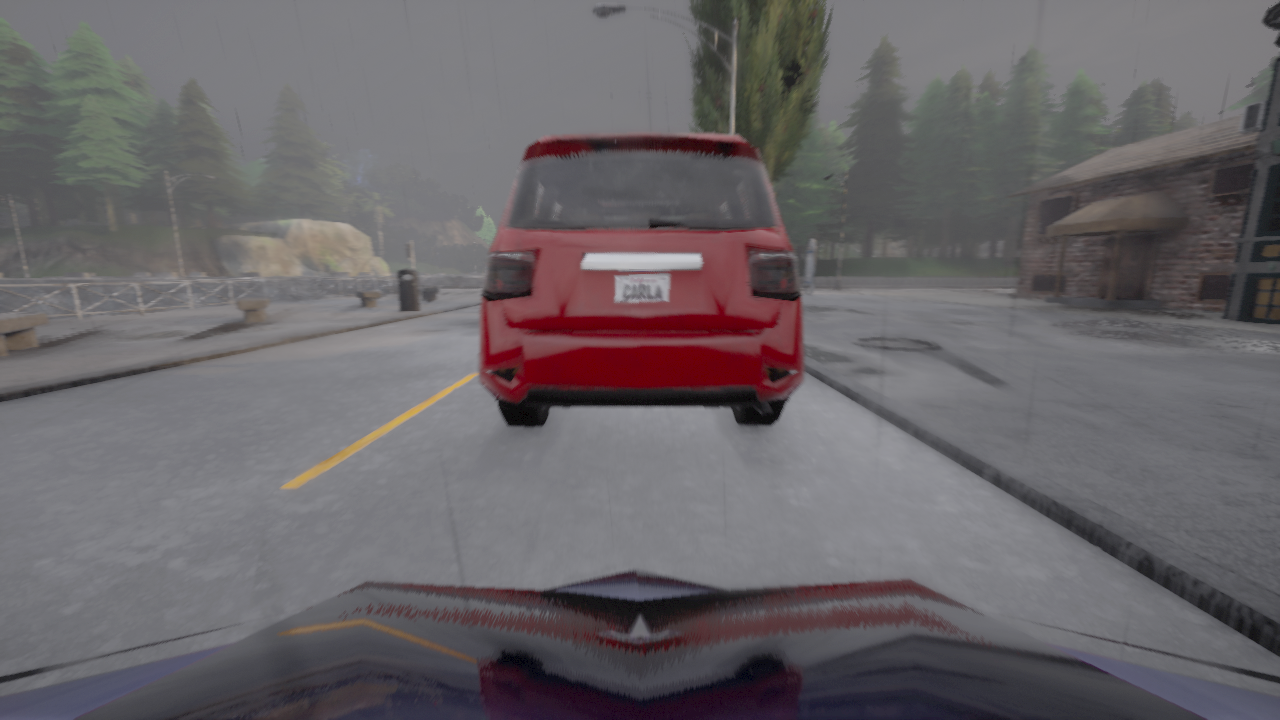cyclist: (0, 569, 1279, 719), (479, 133, 803, 427)
